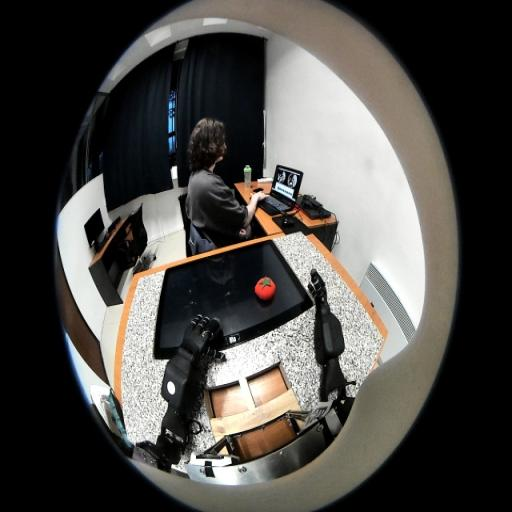LeftHand: (183, 329, 206, 348)
RightHand: (315, 290, 327, 308)
Tomato: (254, 276, 276, 300)
